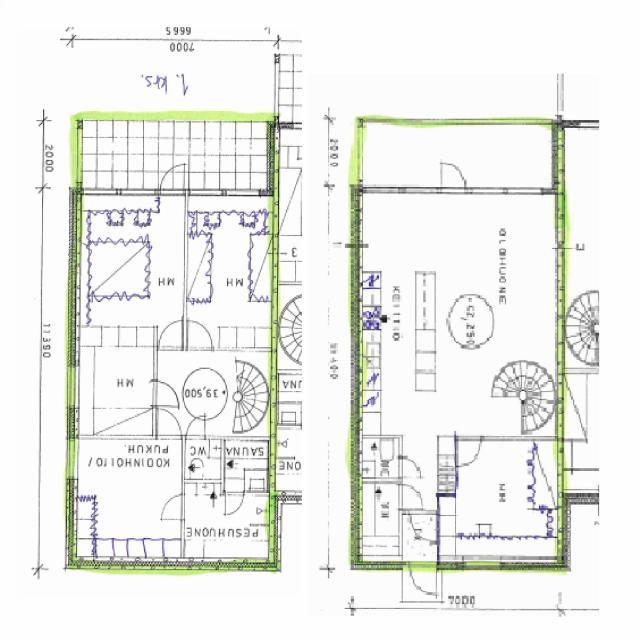door: (411, 562, 436, 599), (410, 510, 436, 542), (442, 160, 466, 192), (161, 162, 183, 195), (460, 436, 483, 466), (153, 381, 180, 406), (158, 410, 181, 439), (159, 321, 182, 350), (190, 321, 212, 350), (161, 496, 185, 519), (399, 485, 423, 508), (187, 414, 206, 439), (226, 490, 243, 516), (399, 457, 419, 477)
